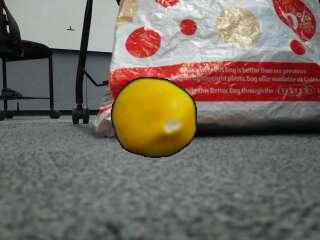lemon: (111, 78, 194, 158)
